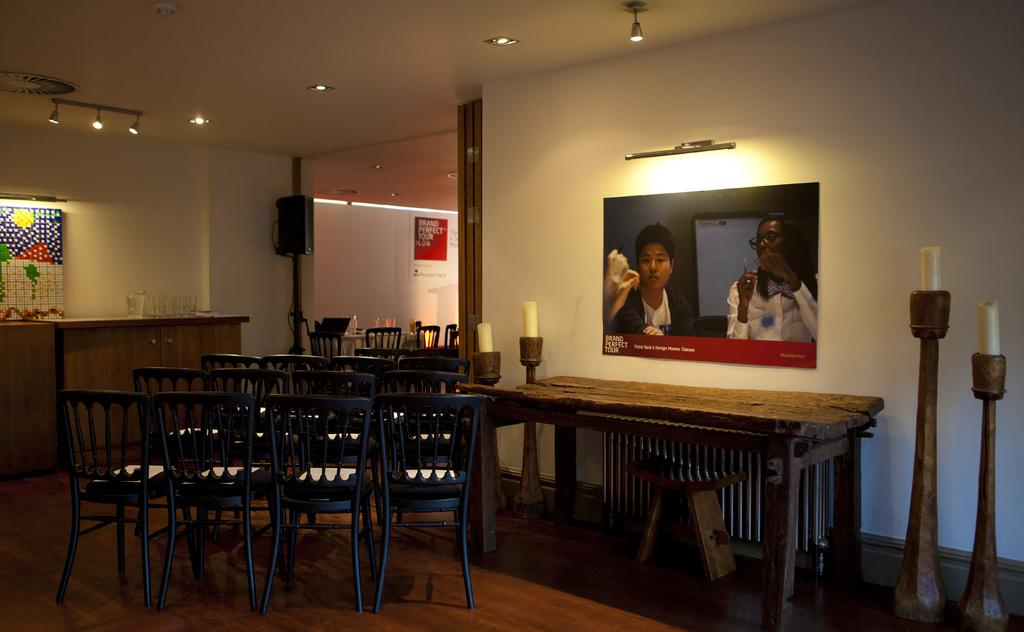Chair: (132, 323, 461, 532), (150, 390, 281, 615), (358, 389, 476, 611), (49, 393, 169, 591), (266, 401, 374, 608)
